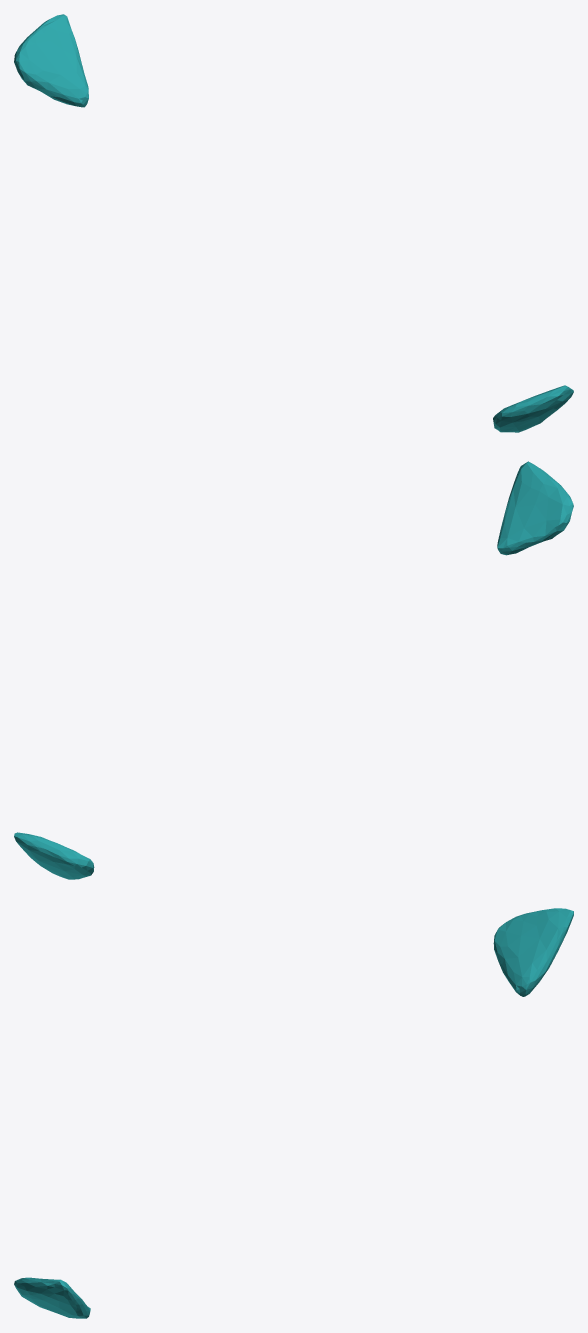
The picture shows the model from 3 angles, top to bottom: view 1: azimuth 30°, elevation 25°; view 2: azimuth 150°, elevation 25°; view 3: azimuth 330°, elevation 25°; orthographic projection.
Parts seen in each view (by area): view 1: 601.obj; view 2: 601.obj; view 3: 601.obj.
Part boxes in pixels (box(x1,y1,x2,y2)): 601.obj: box(14, 14, 573, 432); 601.obj: box(14, 461, 573, 879); 601.obj: box(14, 908, 573, 1318).
Bounding box in the file's own units: 546 × 522 × 7433.
